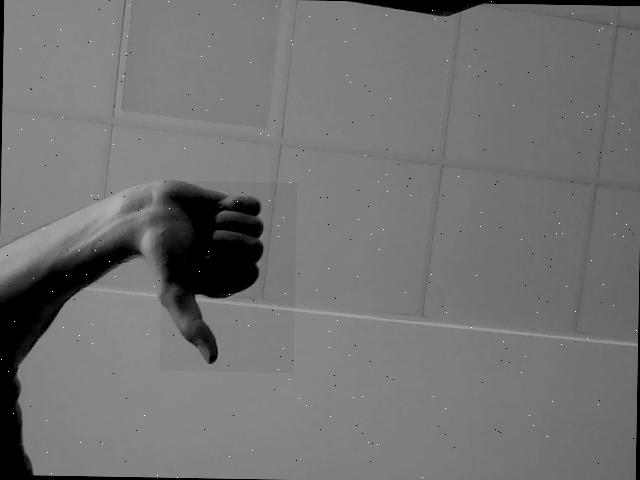bad: (160, 180, 298, 373)
